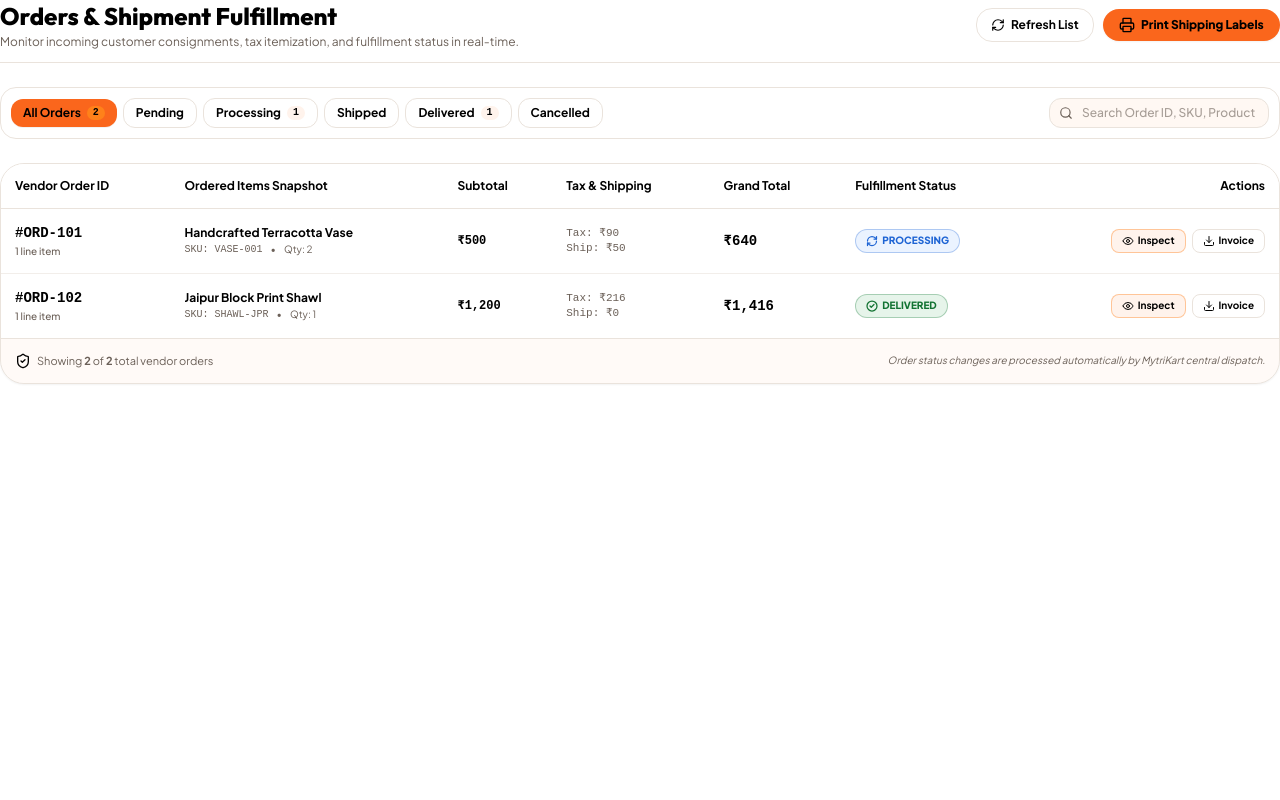
Scenario: SellerOrdersView — Real Backend API Wiring & UI States › 4. opens detail modal with itemized snapshots and financial breakdown upon inspecting an order
This screenshot has width=1280, height=800.
Check: the text "#ORD-101" is shown, box left=15, top=225, right=82, bottom=241
Note: Click "Inspect" on order #ORD-101
Click the button "Inspect" in the row of "101" at [1148, 241], box left=1111, top=229, right=1186, bottom=253
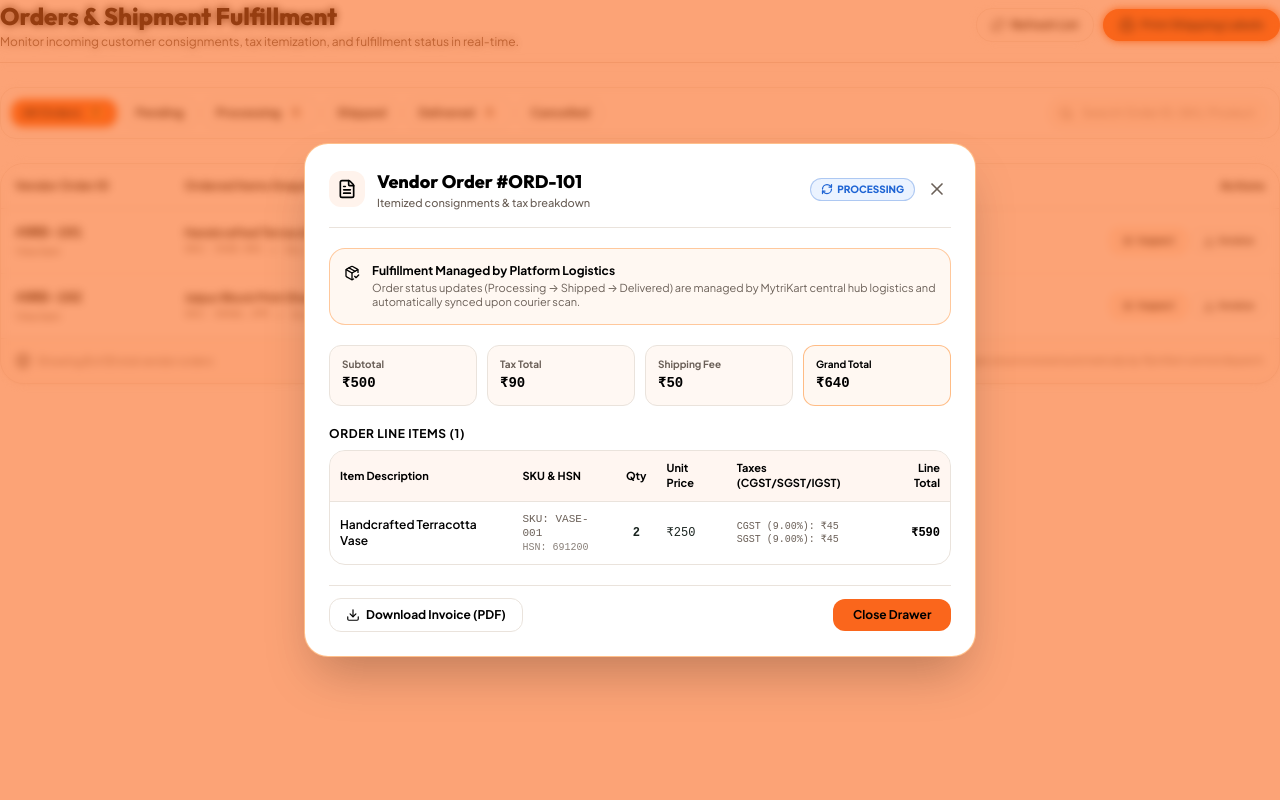
Check: the text "Vendor Order #ORD-101" is shown, box left=377, top=168, right=582, bottom=196
Check: the text "Fulfillment Managed by Platform Logistics" is shown, box left=372, top=262, right=615, bottom=278
Check: the heading "Order Line Items (1)" is shown, box left=329, top=426, right=465, bottom=441
Note: Close modal
Click the button "Close Drawer" at [892, 615], box left=833, top=599, right=951, bottom=631
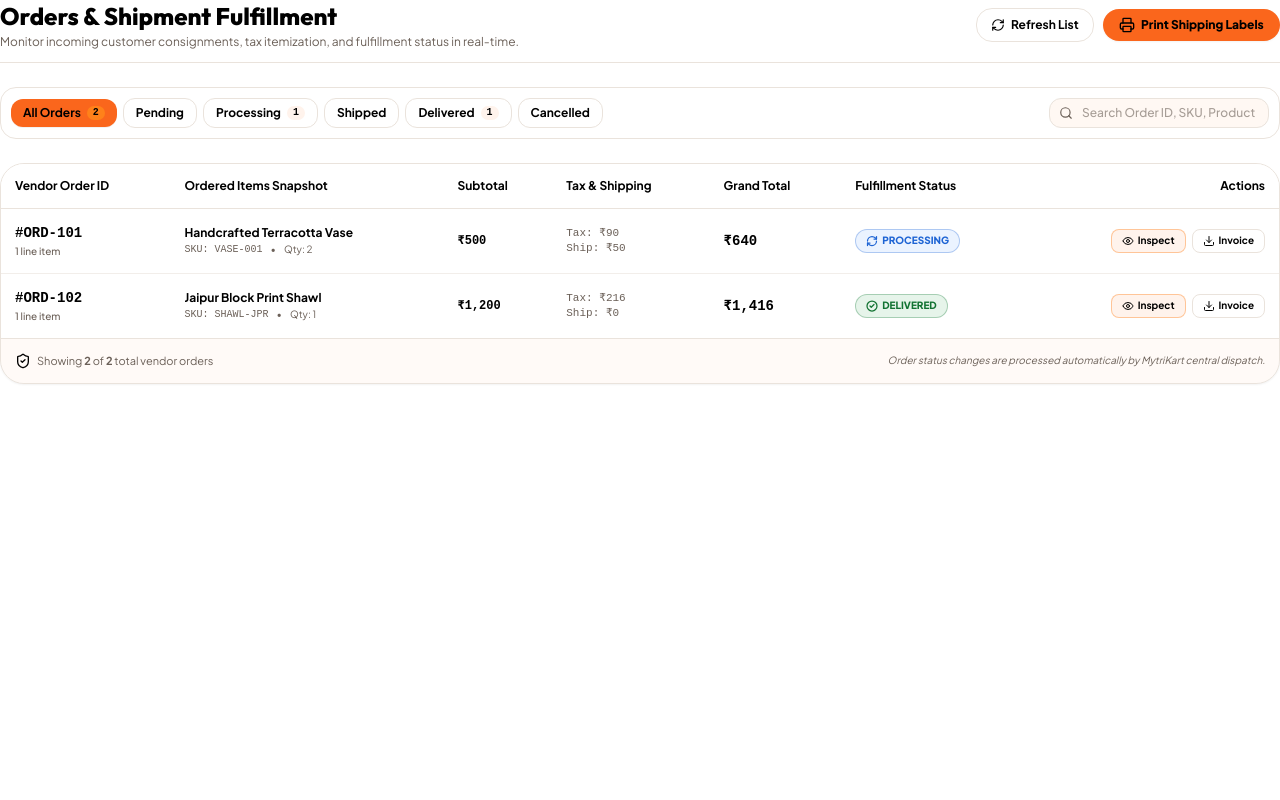
Check: the text "Vendor Order #ORD-101" is gone
